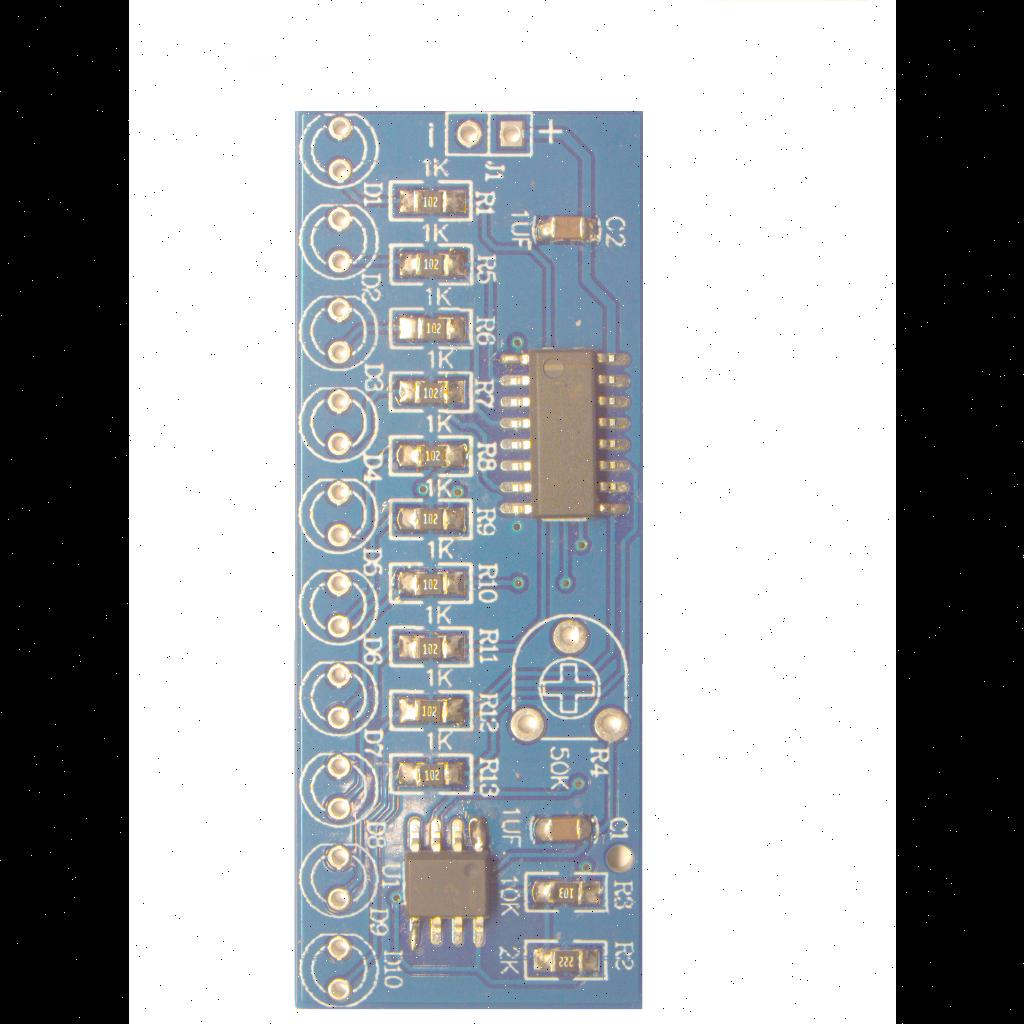OK: (488, 342, 638, 530), (396, 808, 496, 960), (384, 368, 474, 416), (384, 496, 474, 544), (384, 432, 474, 480), (384, 689, 476, 735), (386, 240, 474, 288), (387, 177, 475, 223), (387, 751, 475, 797), (386, 306, 474, 352), (386, 560, 474, 606), (386, 623, 474, 669), (525, 938, 607, 984), (526, 870, 610, 914), (526, 810, 604, 850), (528, 212, 604, 248)
